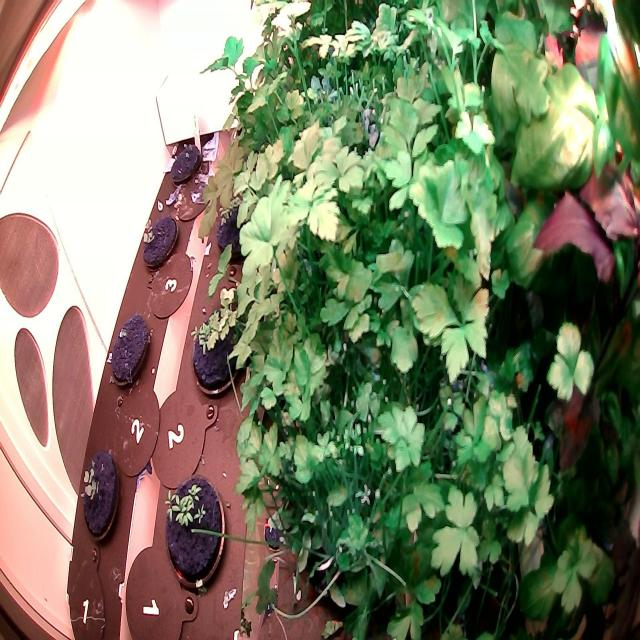germination: (160, 471, 230, 596), (187, 298, 248, 405), (76, 439, 122, 546), (102, 306, 154, 388), (215, 188, 264, 266), (134, 205, 182, 275), (166, 123, 207, 194)
